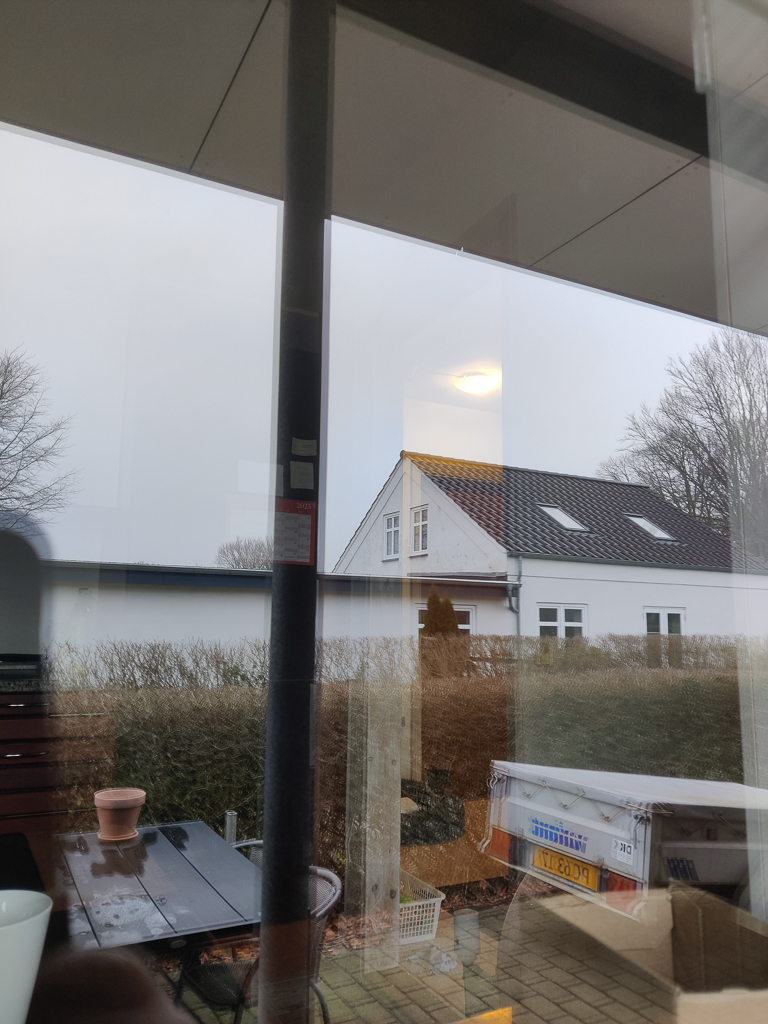Dog: (394, 762, 458, 815)
